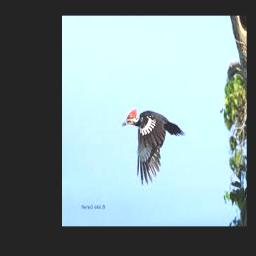Woodpecker: (122, 108, 185, 185)
